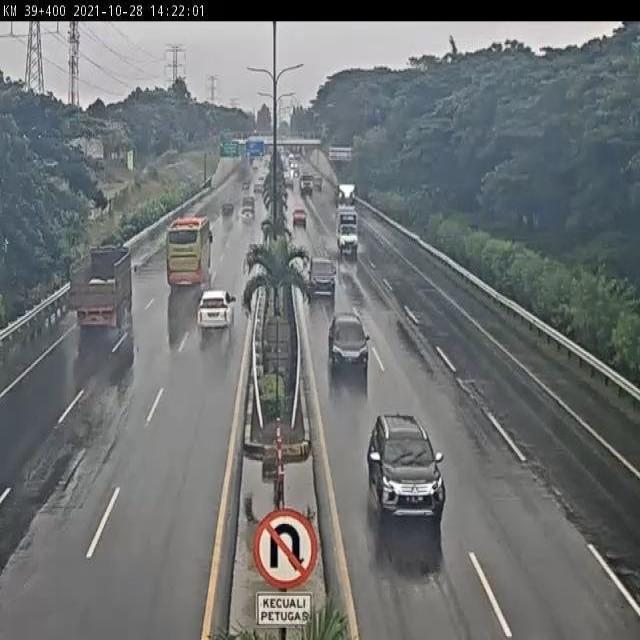Bus: (158, 211, 218, 295)
Car: (363, 406, 448, 539), (324, 310, 374, 380), (194, 280, 238, 340), (304, 251, 341, 299), (216, 194, 238, 225), (291, 204, 307, 228)
Truck: (60, 242, 139, 339), (331, 182, 366, 263)
